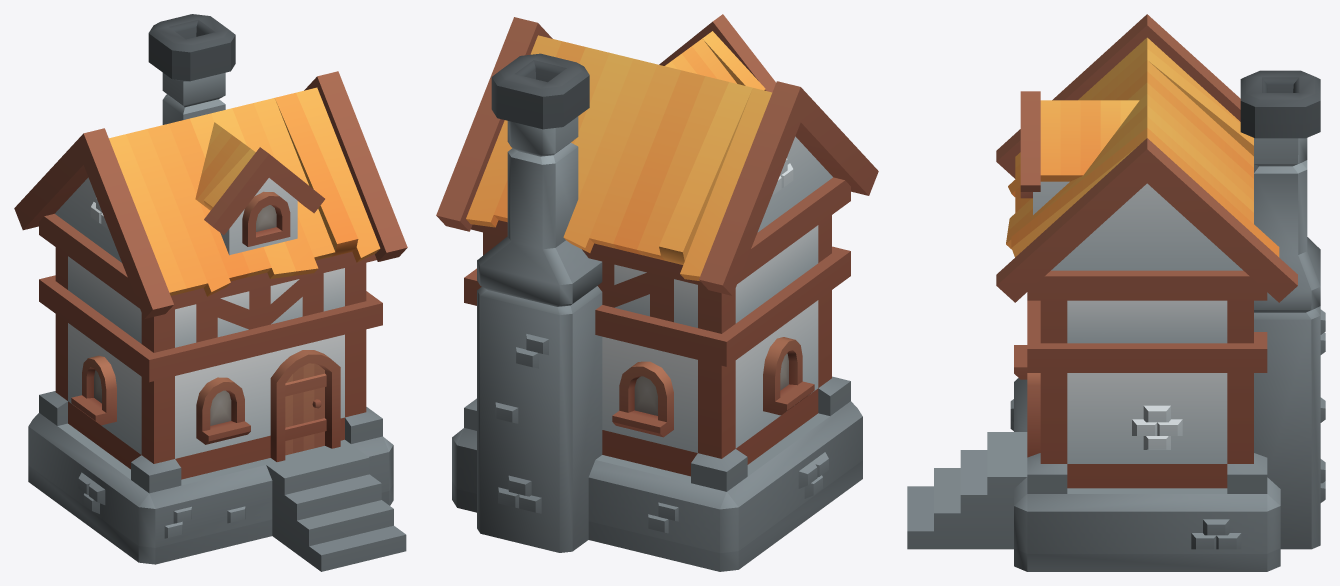
Rendered from building_home_B_yellow.gltf.
3 renders of one model, left to right at view 1: azimuth 30°, elevation 25°; view 2: azimuth 150°, elevation 25°; view 3: azimuth 270°, elevation 25°, orthographic. The views are drawn at different scales.
Visible parts, largest first — view 1: building_home_B_yellow; view 2: building_home_B_yellow; view 3: building_home_B_yellow.
Boxes of the visible parts, left/top/right/bottom form: building_home_B_yellow: left=14, top=14, right=407, bottom=571; building_home_B_yellow: left=436, top=14, right=878, bottom=571; building_home_B_yellow: left=907, top=14, right=1325, bottom=571.
Size of the model in its own units: 0.8749 by 1.28 by 1.1.
Materials: 1 (1 with a texture image).
